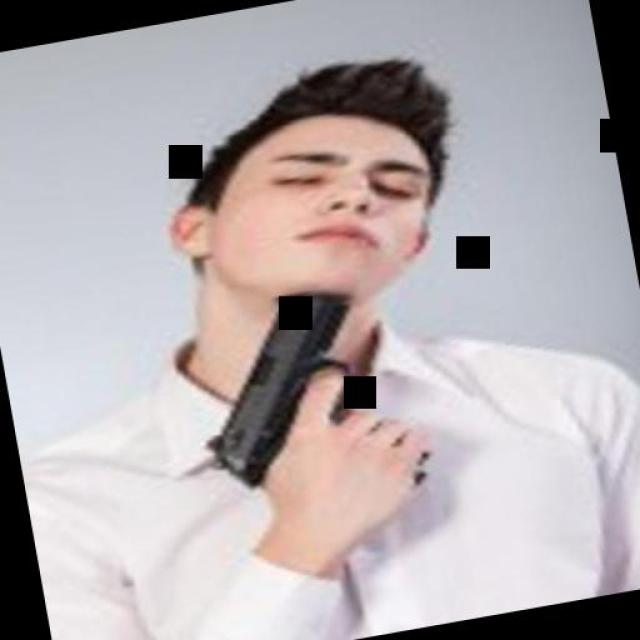gun: (174, 265, 442, 531)
